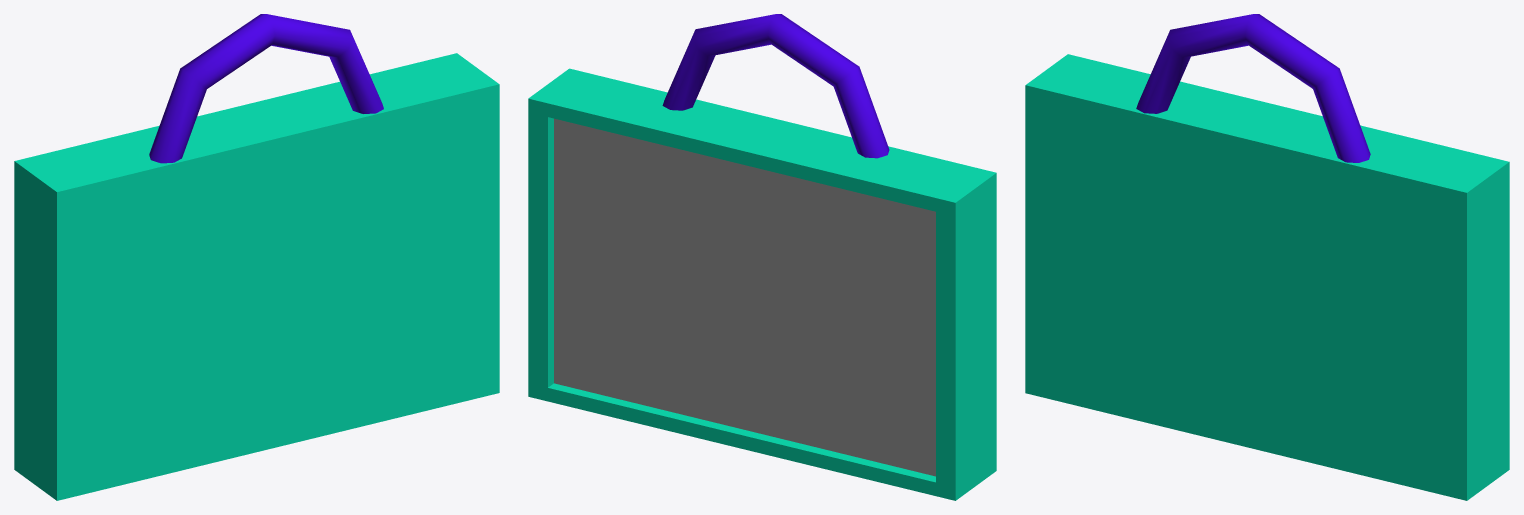
The model's file is painting.fbx.
The picture shows the model from 3 angles, left to right: view 1: azimuth 30°, elevation 25°; view 2: azimuth 150°, elevation 25°; view 3: azimuth 330°, elevation 25°; orthographic projection. The views are drawn at different scales.
Parts seen in each view (by area): view 1: Painting; view 2: Painting; view 3: Painting.
Part boxes in pixels (<box>): Painting: <box>14,14,499,500</box>; Painting: <box>528,14,996,500</box>; Painting: <box>1025,14,1509,500</box>.
Size of the model in its own units: 3 by 2.76 by 0.5.
